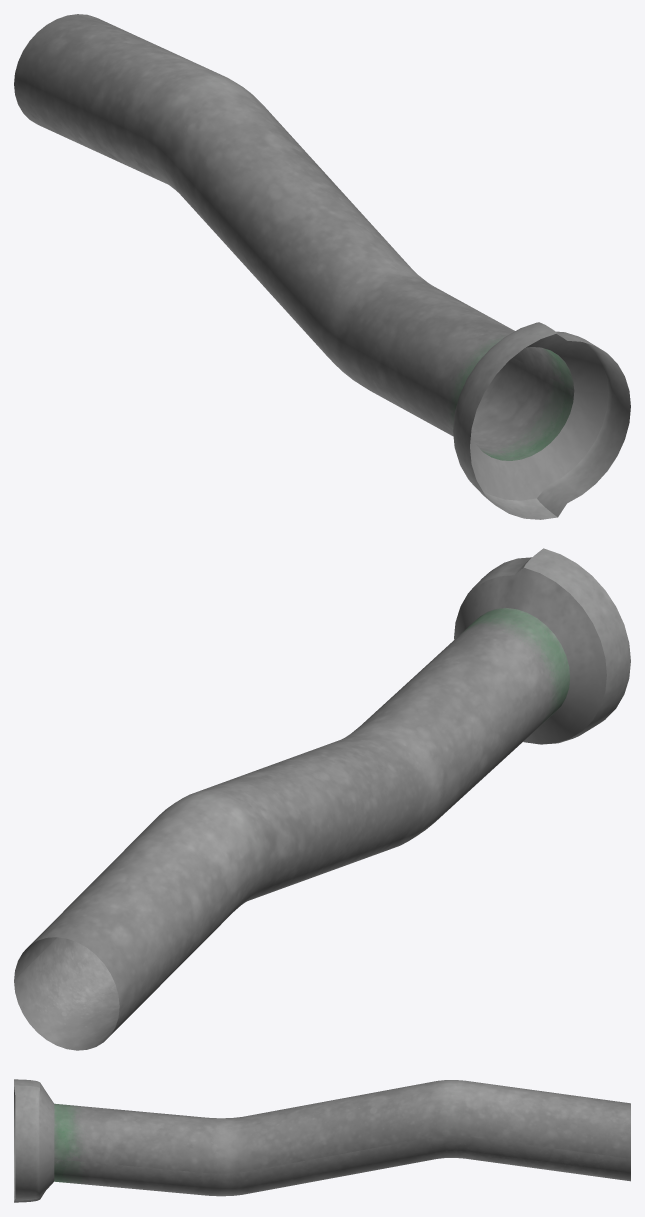
Rendered from SM_Tuberia3.fbx.
The picture shows the model from 3 angles, top to bottom: view 1: azimuth 30°, elevation 25°; view 2: azimuth 150°, elevation 25°; view 3: azimuth 270°, elevation 25°; orthographic projection. The views are drawn at different scales.
Parts seen in each view (by area): view 1: SM_Tuberia3; view 2: SM_Tuberia3; view 3: SM_Tuberia3.
Boxes of the visible parts, <box> form: SM_Tuberia3: <box>14,14,630,519</box>; SM_Tuberia3: <box>14,548,630,1050</box>; SM_Tuberia3: <box>14,1079,630,1202</box>.
Size of the model in its own units: 161 by 175 by 836.
